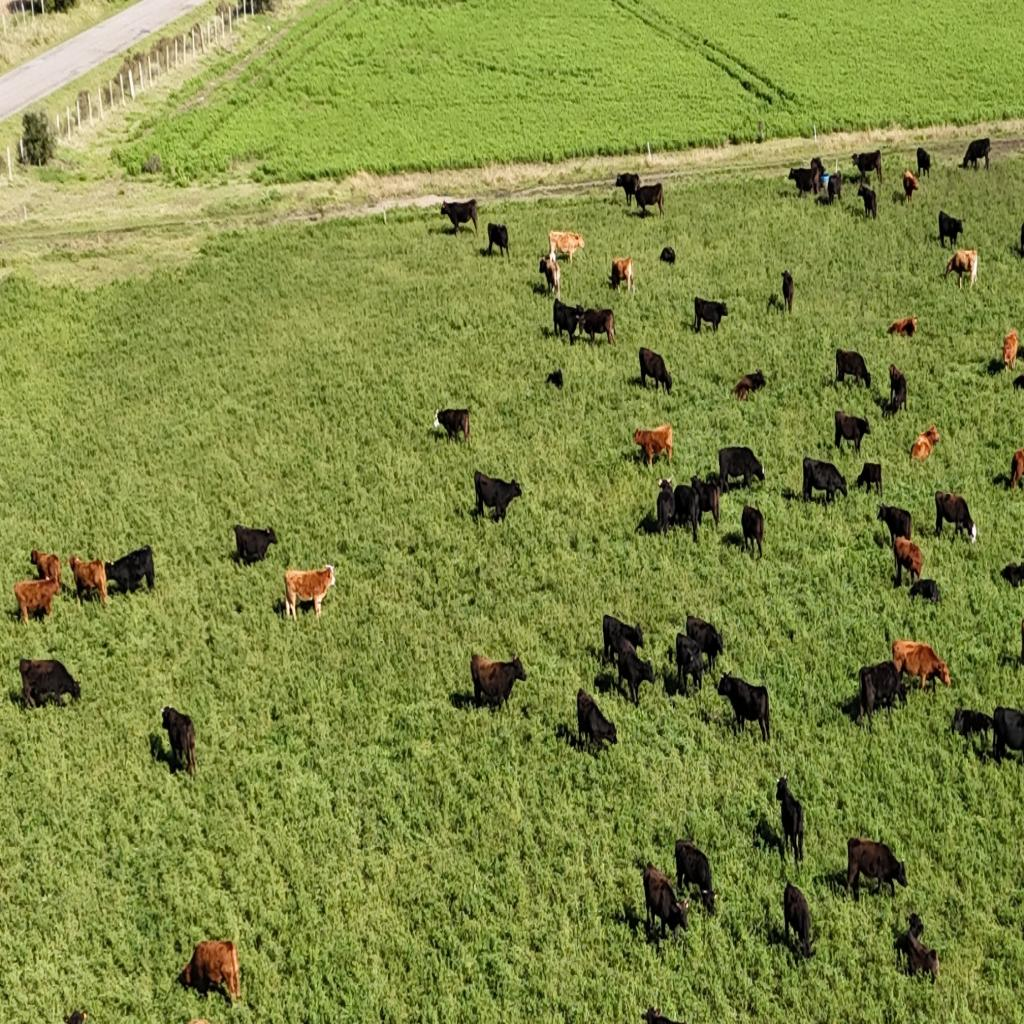cow: (178, 938, 240, 1005), (846, 837, 908, 901), (642, 861, 690, 943), (716, 673, 770, 742), (674, 839, 720, 917), (470, 650, 524, 716), (856, 660, 908, 726), (19, 657, 81, 712), (283, 564, 336, 623), (894, 640, 952, 693), (897, 910, 939, 981), (775, 774, 805, 868), (783, 879, 816, 961), (161, 704, 197, 779), (103, 547, 155, 598), (614, 640, 654, 706), (576, 687, 616, 753), (13, 575, 62, 627), (474, 471, 520, 524), (685, 613, 725, 673), (602, 613, 644, 668), (68, 554, 109, 610), (802, 457, 847, 507), (935, 492, 977, 544), (718, 447, 765, 493), (991, 705, 1024, 766), (676, 630, 704, 696), (234, 524, 278, 566), (633, 424, 672, 468), (690, 476, 720, 532), (892, 536, 924, 588), (834, 410, 870, 456), (672, 484, 700, 543), (639, 346, 672, 396), (950, 706, 992, 745), (578, 306, 617, 346), (728, 370, 766, 410), (835, 348, 872, 389), (440, 198, 478, 237), (877, 503, 912, 545), (943, 248, 978, 290), (434, 406, 470, 446), (553, 298, 585, 342), (992, 448, 1024, 492), (547, 229, 584, 266), (741, 503, 765, 560), (694, 296, 728, 335), (31, 548, 62, 588), (885, 365, 908, 417), (768, 272, 795, 316), (910, 424, 941, 462), (850, 148, 882, 184), (656, 480, 676, 537), (788, 164, 821, 198), (634, 181, 664, 218), (609, 256, 635, 296), (938, 210, 964, 249), (538, 253, 560, 299), (962, 137, 991, 171), (855, 462, 884, 494), (909, 577, 941, 606), (614, 172, 640, 206), (486, 221, 509, 259), (641, 1005, 685, 1023), (1002, 328, 1019, 372), (858, 184, 878, 220), (888, 314, 918, 338), (999, 561, 1024, 588), (902, 169, 919, 205), (827, 169, 843, 201), (916, 146, 931, 180), (546, 369, 563, 388), (660, 246, 676, 265), (657, 477, 673, 495)
